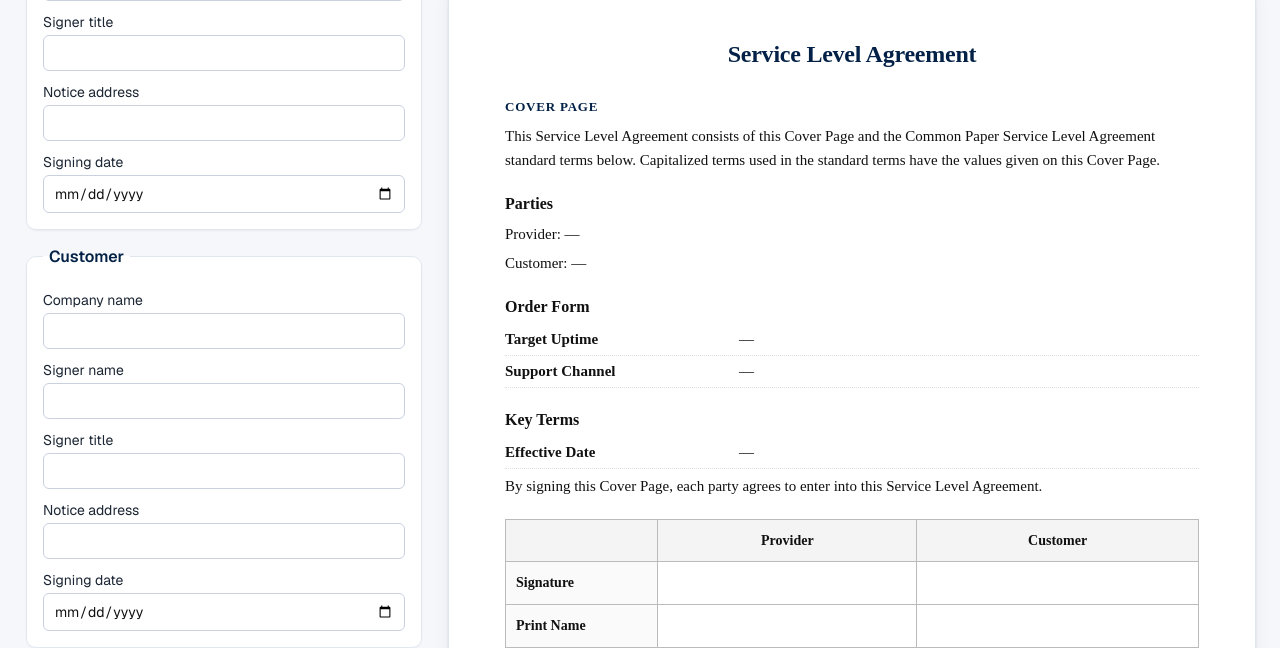
Test: DocumentCreator: saving › autosaves edits as a draft of this document, titled by its parties
(page scrolled)
Type "Globex" into the field labelled "Company name".
click(224, 331); type("Globex")  # box [43,313,405,349]
(page scrolled)
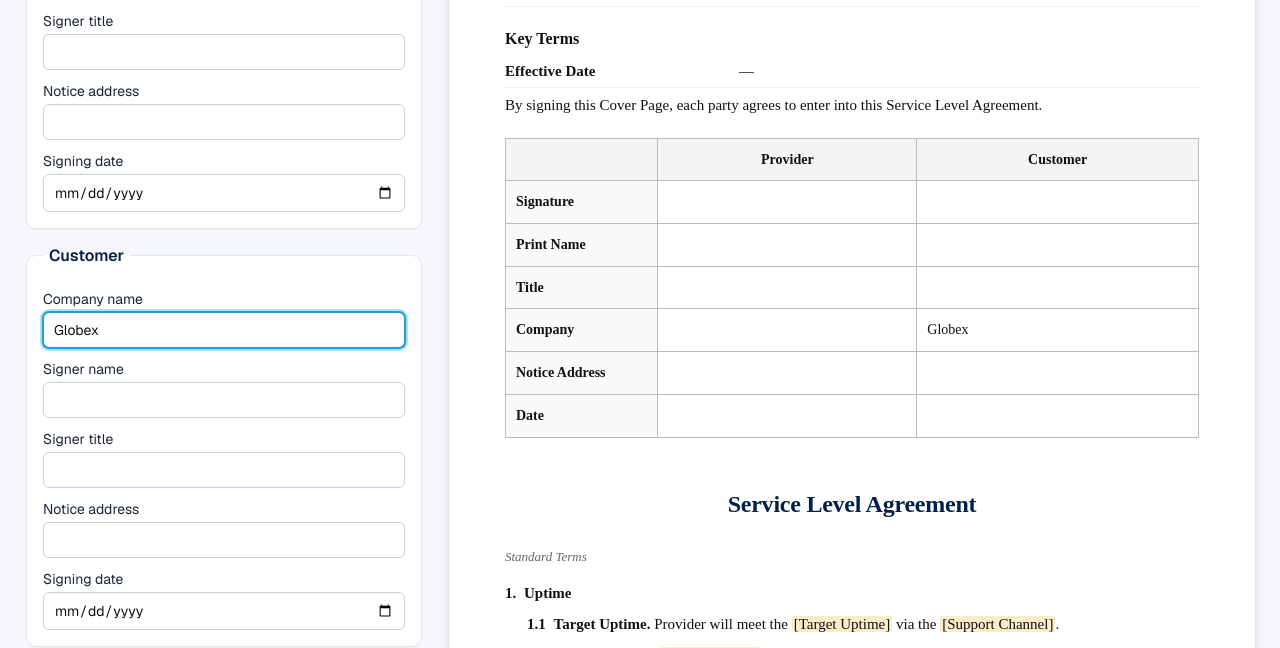
Now the cell "Globex" is shown, box [917,309,1198,352]
